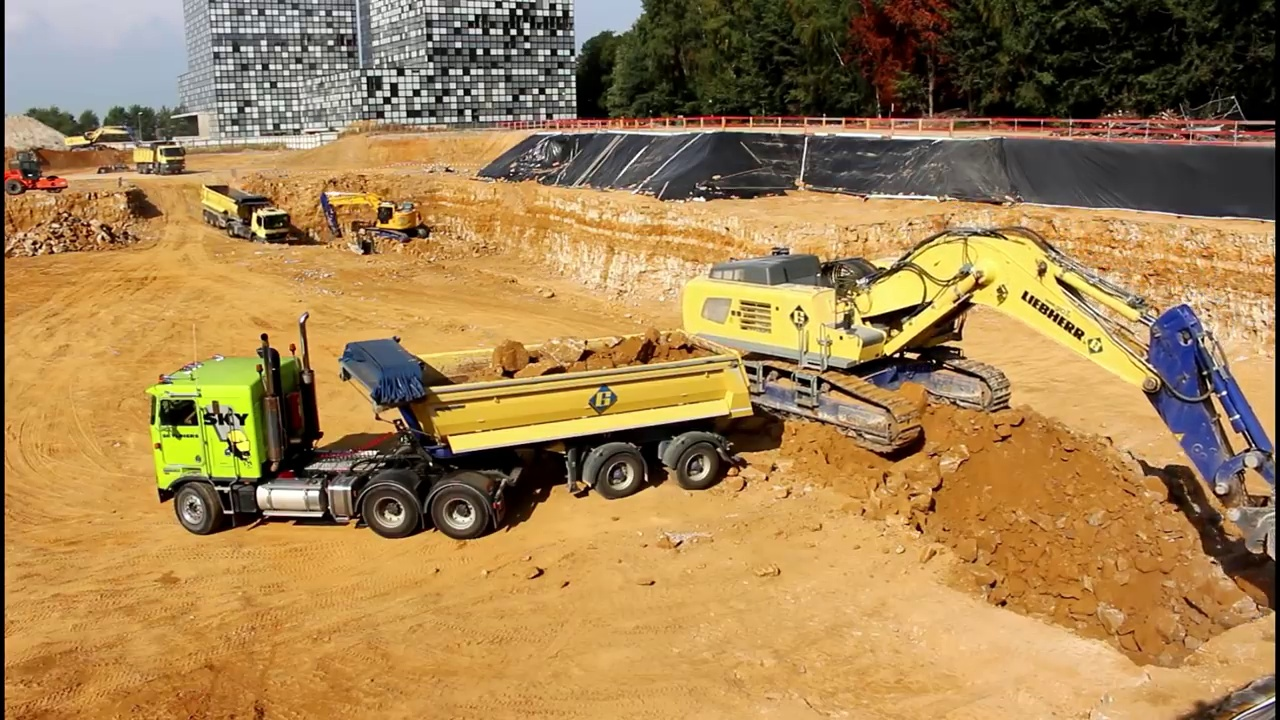compactor: (2, 157, 68, 200)
excavator: (663, 220, 1280, 586), (314, 182, 436, 258), (60, 117, 136, 161)
truck: (142, 306, 761, 548), (197, 175, 297, 250), (130, 136, 187, 178)
